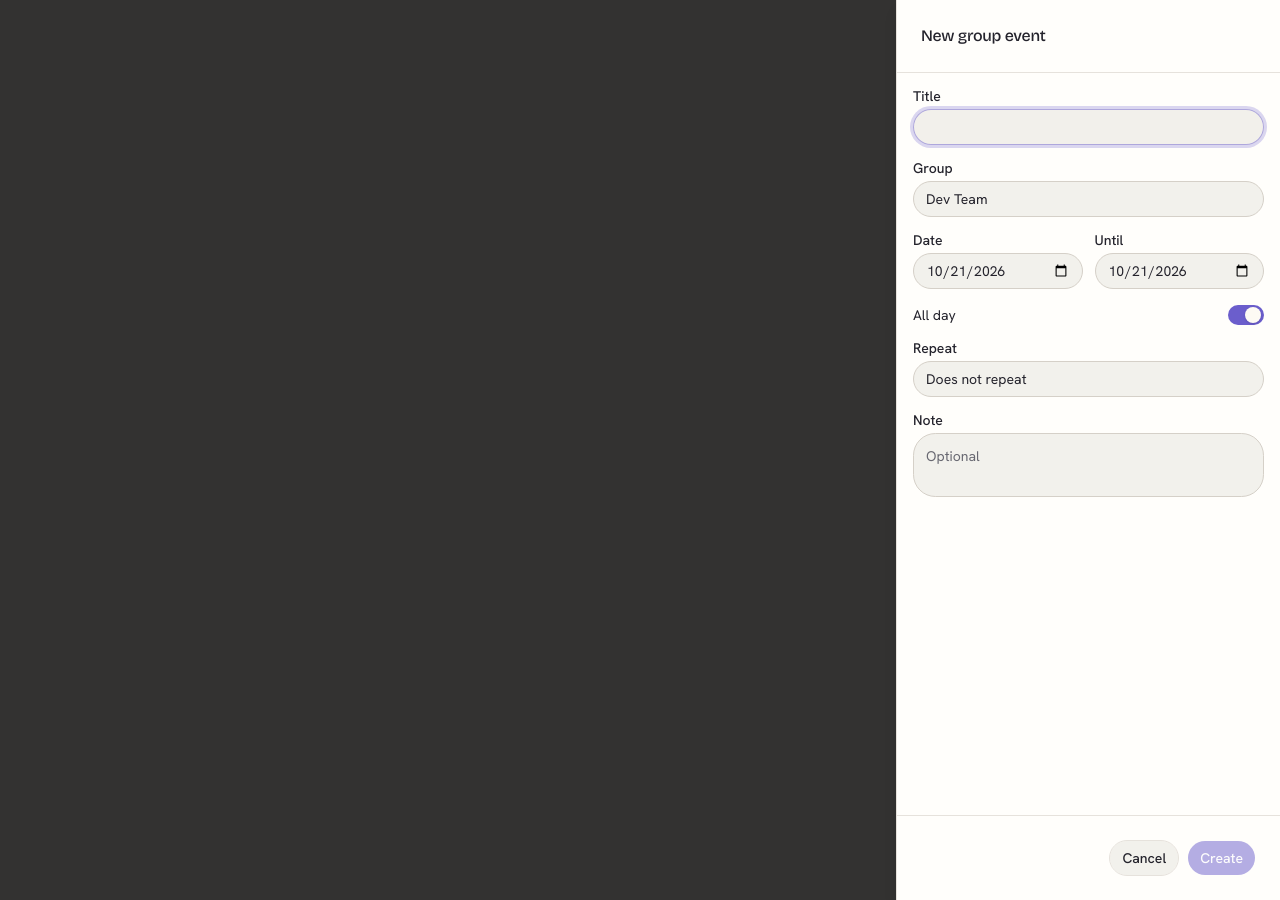
GroupEventSheetHost, creating › lists only the groups that can create and falls back to the first of them
Click the dropdown named "Group" at (957, 199), box [913, 181, 1264, 217]
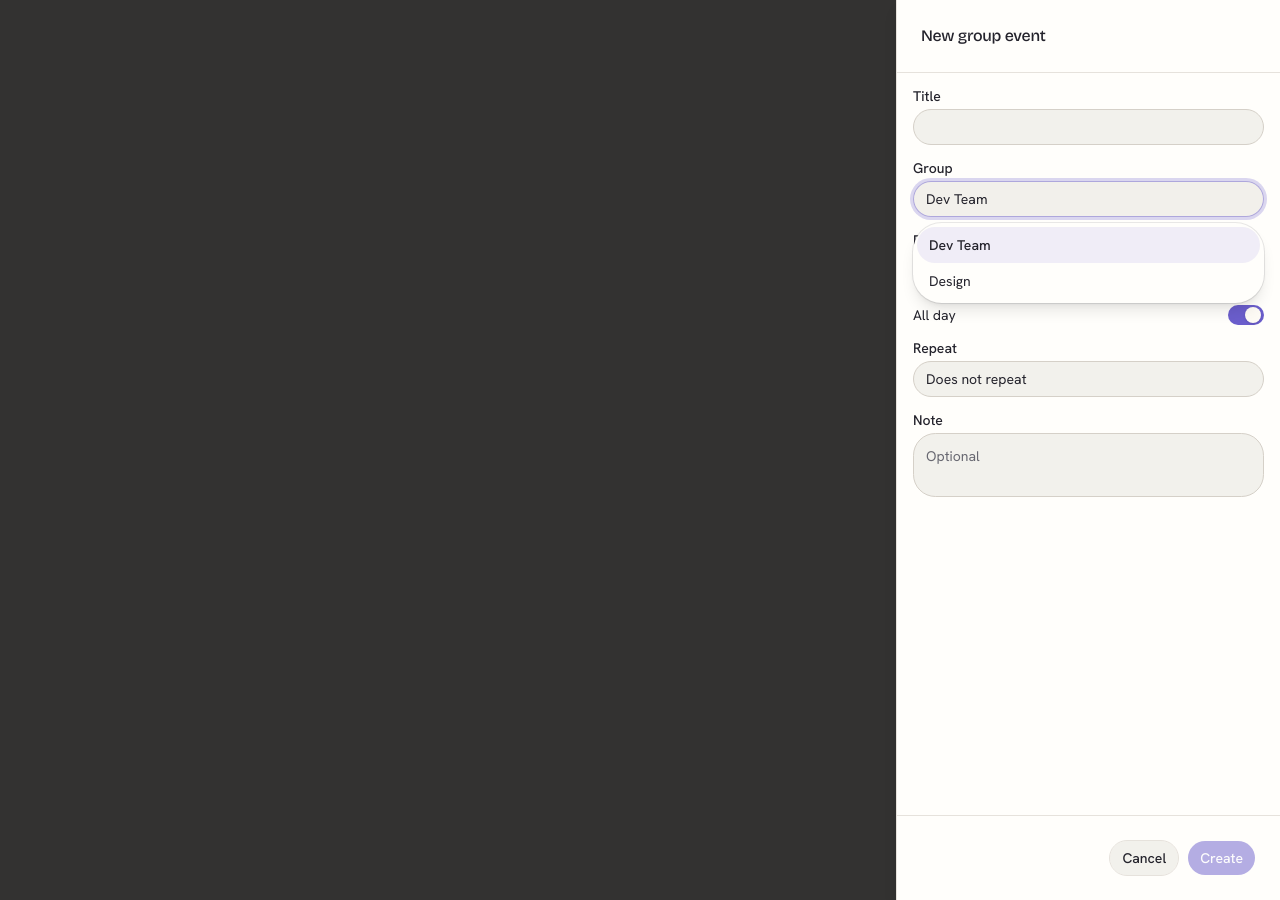
Now the options read "Dev Team", "Design", in this order, box [917, 227, 1260, 263]; [929, 272, 971, 290]
